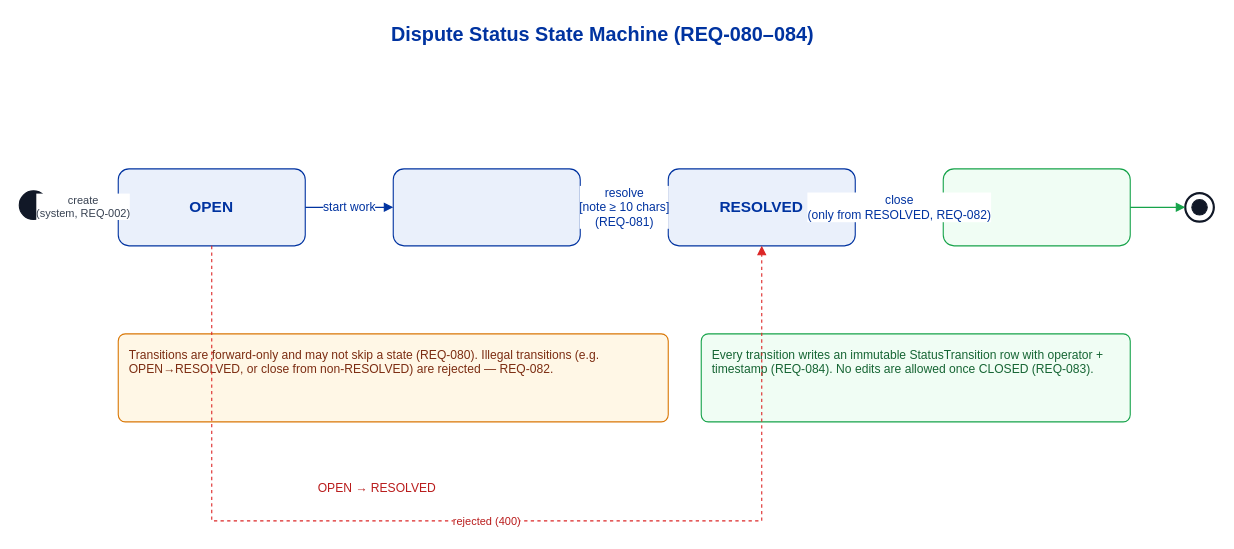
Image size: 1234x549. Some labels were removed from this diagram. Each missing label, with the box of its shape:
CLOSED (immutable): (942, 168, 1130, 246)
IN_PROGRESS: (392, 168, 580, 246)
